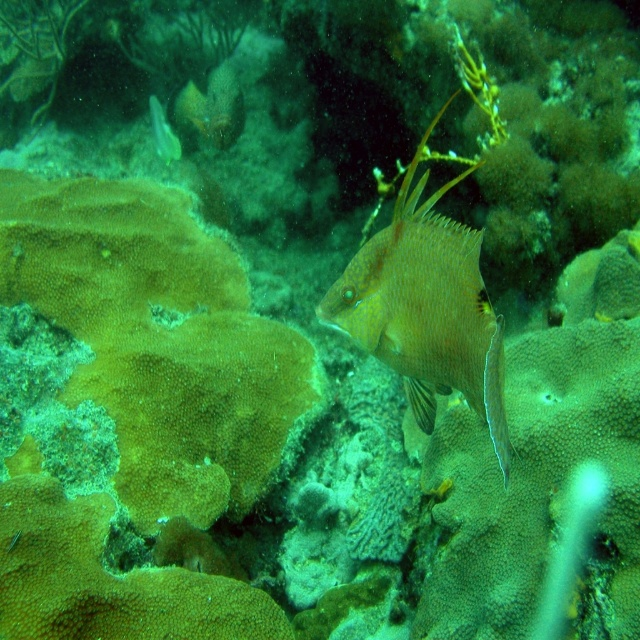Fish: (320, 159, 532, 484)
